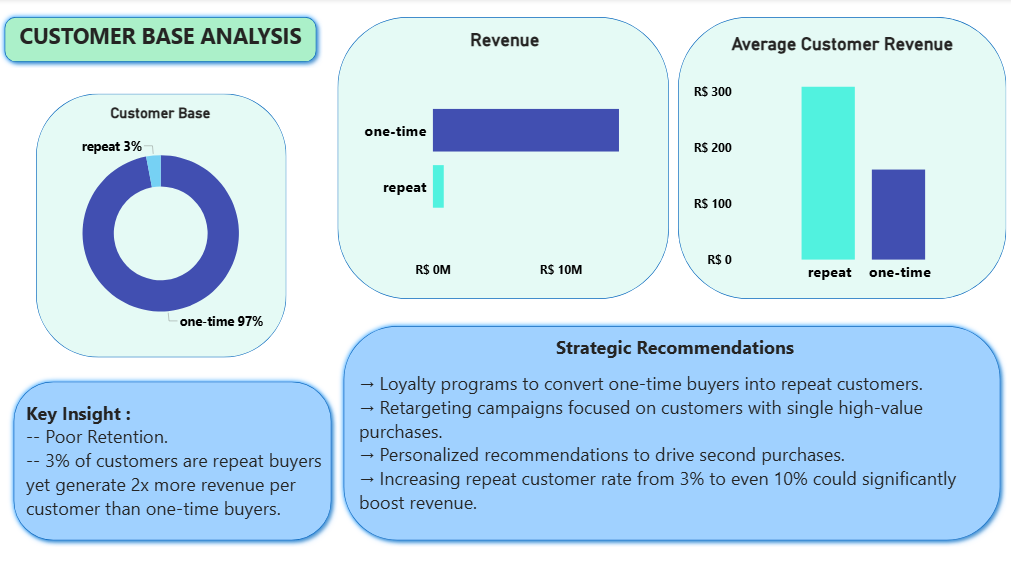

This screenshot's page, from the dashboard's own definition file:
{"tool":"powerbi","page":{"name":"Customer Analysis","canvas":[1500,850],"ordinal":2},"visuals":[{"type":"shape","box":[502.7,26.6,489.4,416.3],"z":0},{"type":"barChart","title":"Revenue","fields":{"Category":["Customer Purchase Frequency.customer_type"],"Y":["Sum(Customer Purchase Frequency.total_revenue)"]},"box":[535.9,44.3,427.4,378.7],"z":1000},{"type":"shape","box":[57.6,139.5,369.8,389.8],"z":2000},{"type":"donutChart","title":"Customer Base","fields":{"Category":["Customer Purchase Frequency.customer_type"],"Y":["Sum(Customer Purchase Frequency.total_customers)"]},"box":[24.4,155,434.1,356.5],"z":3000},{"type":"shape","box":[1005.4,26.6,485,416.3],"z":4000},{"type":"columnChart","title":"Average Customer Revenue","fields":{"Category":["Customer Purchase Frequency.customer_type"],"Y":["Sum(Customer Purchase Frequency.avg_revenue_per_customer)"]},"box":[1023.1,50.9,449.6,376.5],"z":5000},{"type":"shape","box":[2.2,17.7,478.4,84.2],"z":6000},{"type":"textbox","box":[22.1,26.6,438.5,66.4],"z":7000},{"type":"shape","box":[15.5,555.9,487.2,252.5],"z":8000},{"type":"textbox","box":[37.6,586.9,465.1,190.5],"z":9000},{"type":"shape","box":[502.7,473.9,987.7,334.4],"z":10000},{"type":"textbox","box":[529.3,489.4,943.4,287.9],"z":11000}]}

Visuals, with their boxes in screenshot pixels (x1, y1, x2, y2), scaled from the page's 1500x850 canvas onto the 1011x571 screenshot:
shape: box(339, 18, 669, 298)
"Revenue" barChart: box(361, 30, 649, 284)
shape: box(39, 94, 288, 356)
"Customer Base" donutChart: box(16, 104, 309, 344)
shape: box(678, 18, 1005, 298)
"Average Customer Revenue" columnChart: box(690, 34, 993, 287)
shape: box(1, 12, 324, 68)
textbox: box(15, 18, 310, 62)
shape: box(10, 373, 339, 543)
textbox: box(25, 394, 339, 522)
shape: box(339, 318, 1005, 543)
textbox: box(357, 329, 993, 522)
